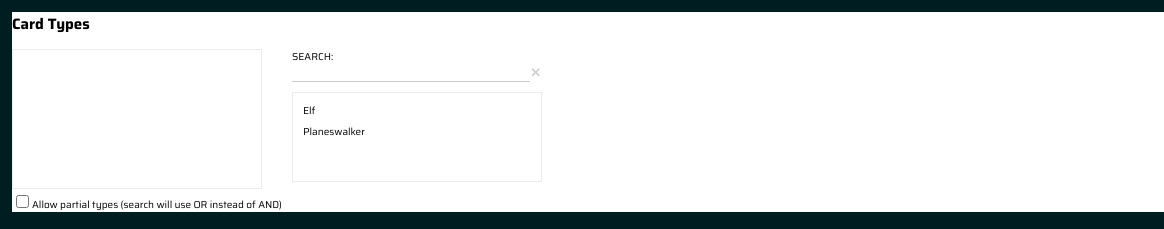
Test: CardTypes › should add type to IsNotSelector if clicked
The image size is (1164, 229).
Click the list item "Elf": [309, 110] box 303,103 -> 315,118
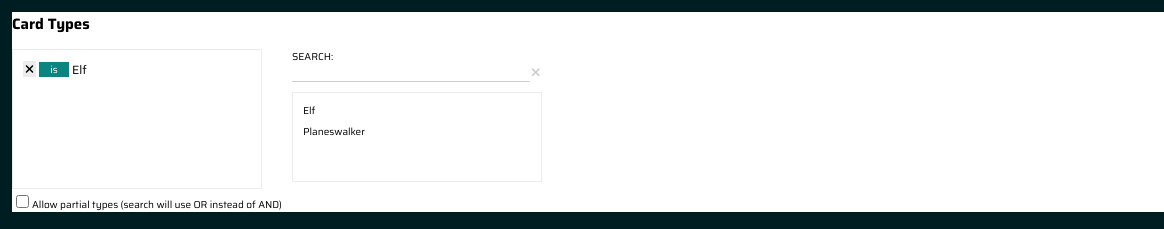
Expected: the list item with test id "Elf-isNotSelector" is shown, 23,60 -> 87,79
